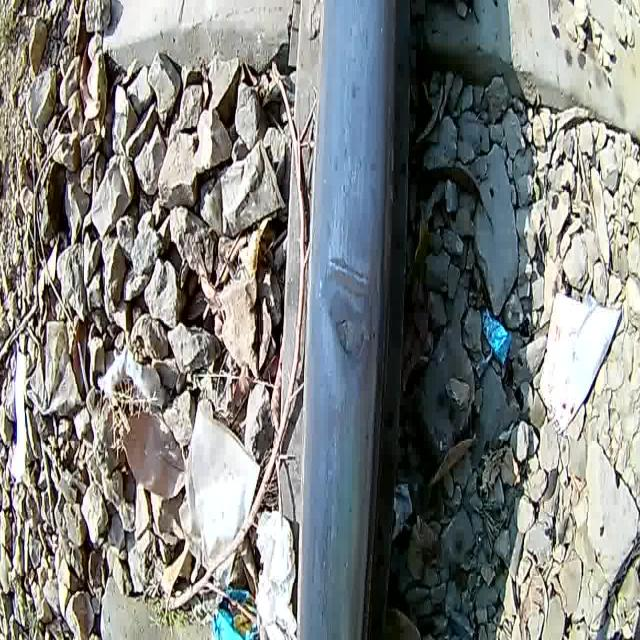Squats: (284, 0, 417, 640)
